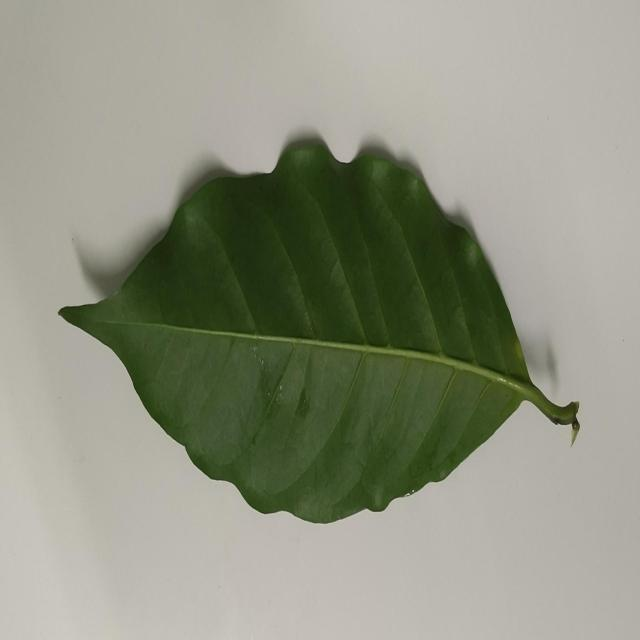Sanas: (58, 128, 581, 526)
